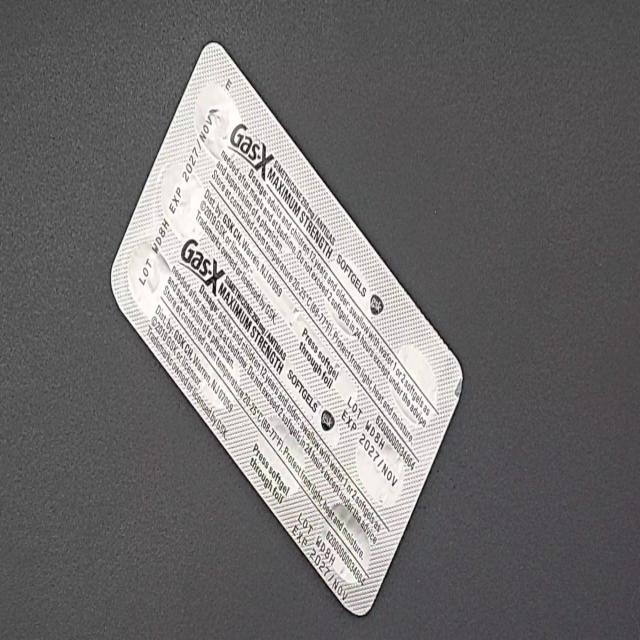no defect: (4, 10, 29, 58)
